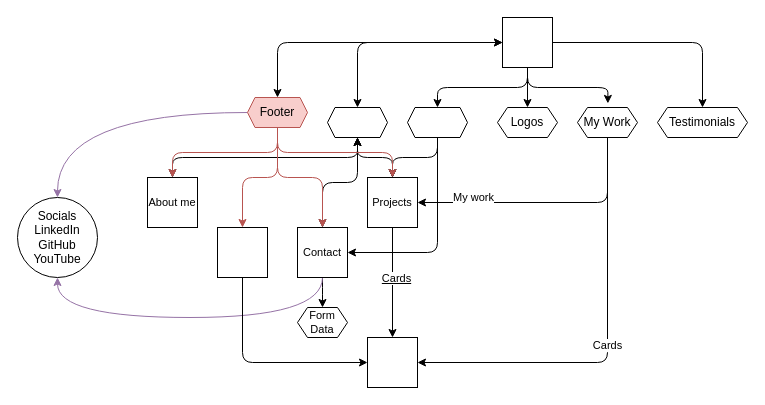
Image size: 765x405. Some labels were removed from this diagram. The shapes that lost their labels are listed below. From the top down, each one's box as (x1, y1, x2, y2) in pixels, then its label:
(502, 16, 552, 68): Home
(326, 106, 388, 138): Navbar
(406, 106, 468, 138): Hero
(216, 226, 268, 278): Dashboard
(366, 336, 418, 388): Project Details
